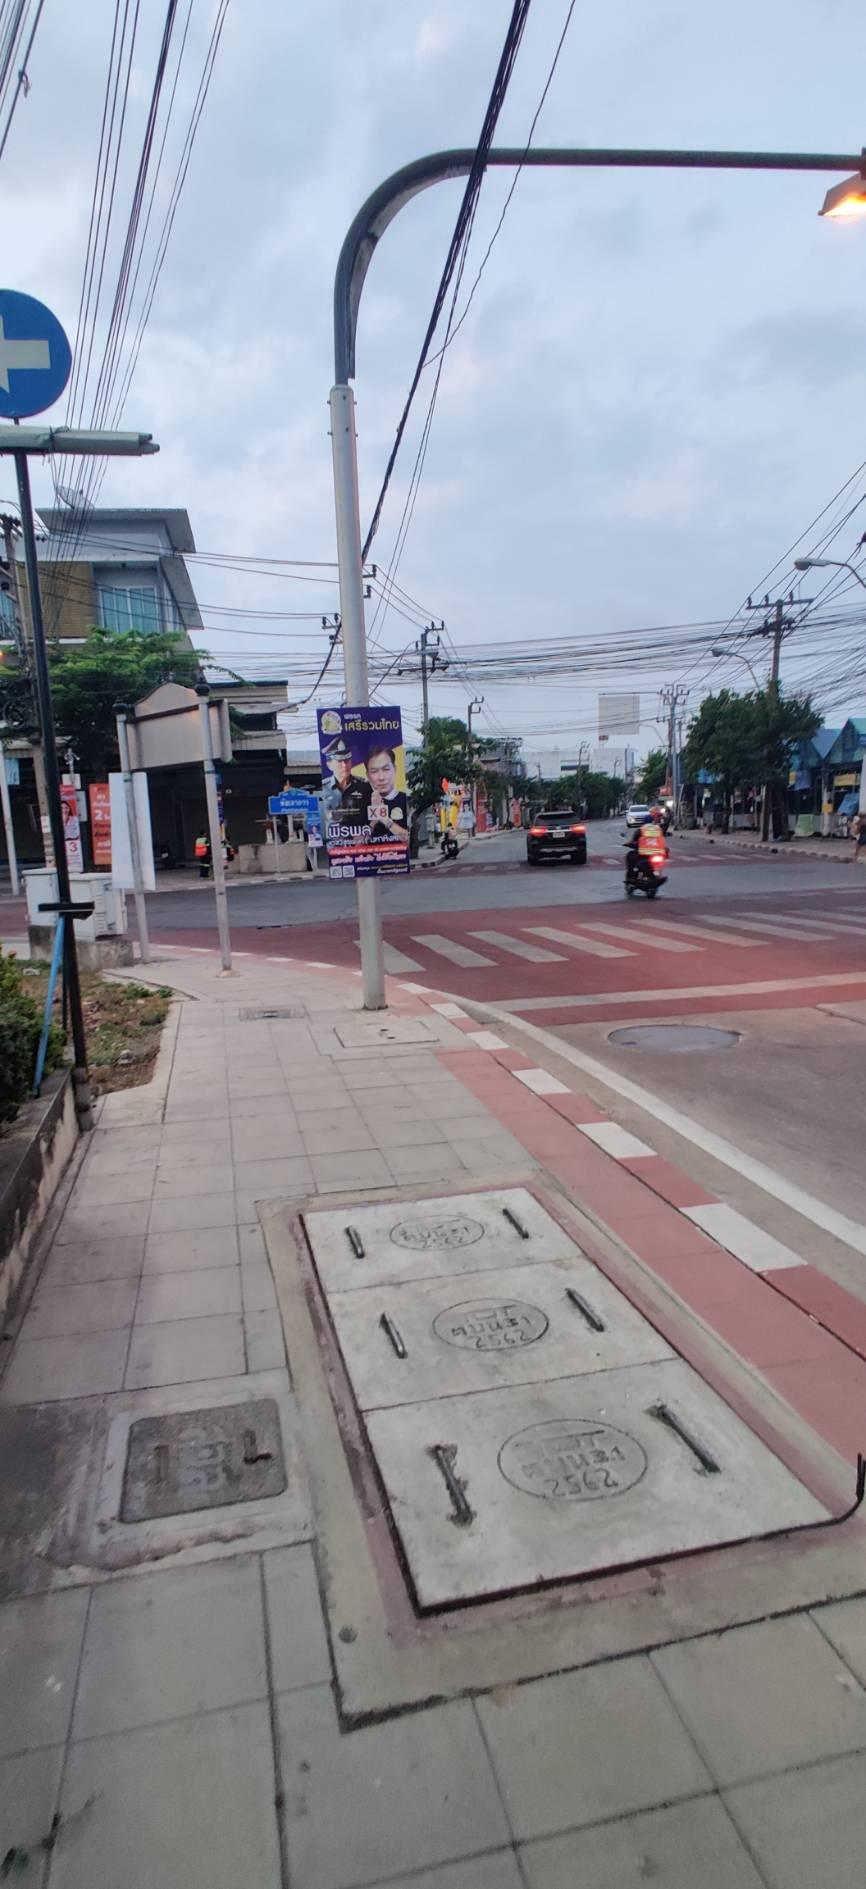Banner: (300, 704, 422, 869)
